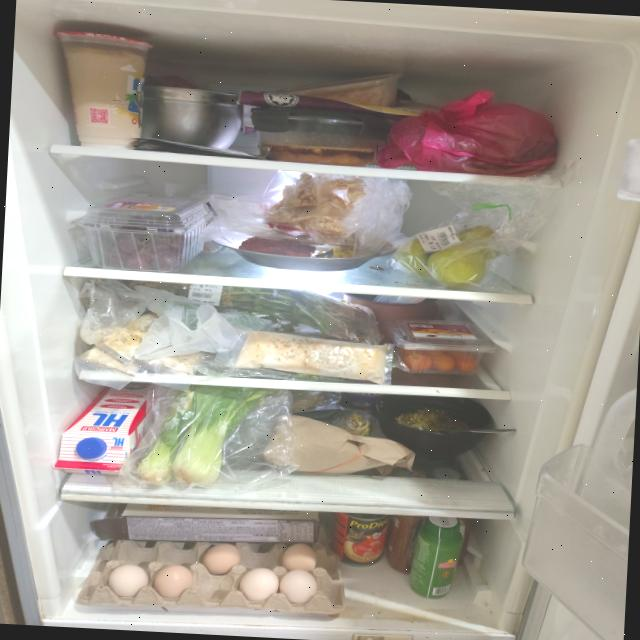apple: (392, 221, 500, 289)
egg: (79, 526, 348, 618)
grape: (106, 214, 184, 272)
leafy_greens: (150, 282, 383, 342)
pakchoy: (136, 382, 280, 490)
tempeh: (77, 308, 211, 382), (234, 330, 388, 384)
unknown_bag: (376, 84, 562, 179)
